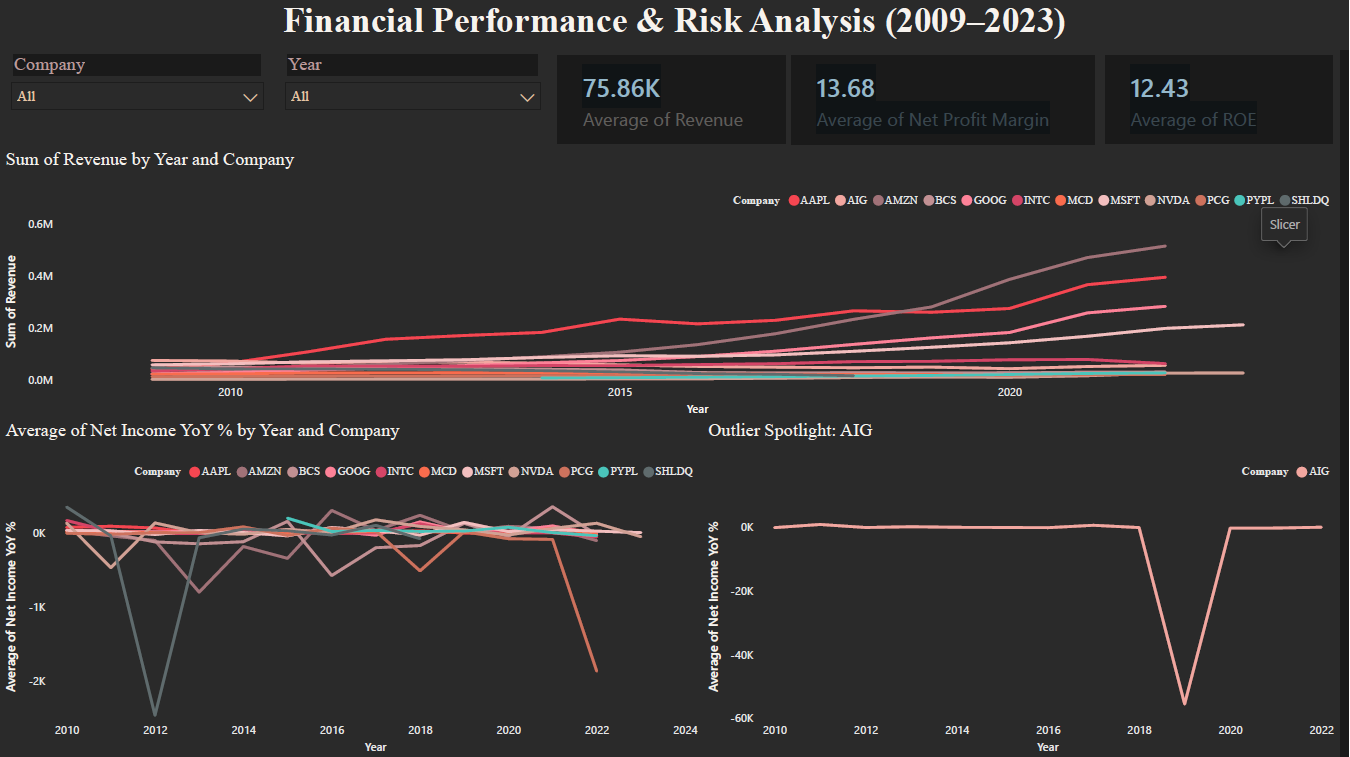

The dashboard page shown, as its layout file describes it:
{"tool":"powerbi","page":{"name":"Page 1","canvas":[1280,720],"ordinal":0},"visuals":[{"type":"cardVisual","fields":{"Data":["Avg(financial_statements_cleaned.Revenue)"]},"box":[523.9,46.6,230.7,94.5],"z":0},{"type":"cardVisual","fields":{"Data":["Avg(financial_statements_cleaned.Net Profit Margin)"]},"box":[746,46.6,298.2,95.7],"z":1},{"type":"cardVisual","fields":{"Data":["Avg(financial_statements_cleaned.ROE)"]},"box":[1044.2,46.6,227,94.5],"z":2},{"type":"slicer","fields":{"Values":["financial_statements_cleaned.Company"]},"box":[0,46.5,259.6,94.9],"z":5},{"type":"slicer","fields":{"Values":["financial_statements_cleaned.Year"]},"box":[259.6,46.5,263.4,94.9],"z":6},{"type":"lineChart","fields":{"Category":["financial_statements_cleaned.Year"],"Y":["Sum(financial_statements_cleaned.Revenue)"],"Series":["financial_statements_cleaned.Company"]},"box":[0,141.5,1270.7,257.3],"z":7},{"type":"lineChart","fields":{"Series":["financial_statements_cleaned.Company"],"Category":["financial_statements_cleaned.Year"],"Y":["Avg(financial_statements_cleaned.Net Income YoY %)"]},"box":[0,398.8,667.1,320.7],"z":8},{"type":"textbox","title":"Financial Performance & Risk Analysis (2009–2023)","box":[0,0,1279.8,46.6],"z":10},{"type":"lineChart","title":"Outlier Spotlight: AIG","fields":{"Series":["financial_statements_cleaned.Company"],"Category":["financial_statements_cleaned.Year"],"Y":["Avg(financial_statements_cleaned.Net Income YoY %)"]},"box":[667.1,398.8,603.7,320.7],"z":11}]}

Visuals, with their boxes in screenshot pixels (x1, y1, x2, y2), scaled from the page's 1280x720 canvas onto the 1350x757 screenshot:
cardVisual - Avg(financial_statements_cleaned.Revenue): select_region(553, 49, 796, 148)
cardVisual - Avg(financial_statements_cleaned.Net Profit Margin): select_region(787, 49, 1101, 150)
cardVisual - Avg(financial_statements_cleaned.ROE): select_region(1101, 49, 1341, 148)
slicer - financial_statements_cleaned.Company: select_region(0, 49, 274, 149)
slicer - financial_statements_cleaned.Year: select_region(274, 49, 552, 149)
lineChart - financial_statements_cleaned.Year x Sum(financial_statements_cleaned.Revenue): select_region(0, 149, 1340, 419)
lineChart - financial_statements_cleaned.Company x financial_statements_cleaned.Year: select_region(0, 419, 704, 756)
"Financial Performance & Risk Analysis (2009–2023)" textbox: select_region(0, 0, 1349, 49)
"Outlier Spotlight: AIG" lineChart: select_region(704, 419, 1340, 756)
